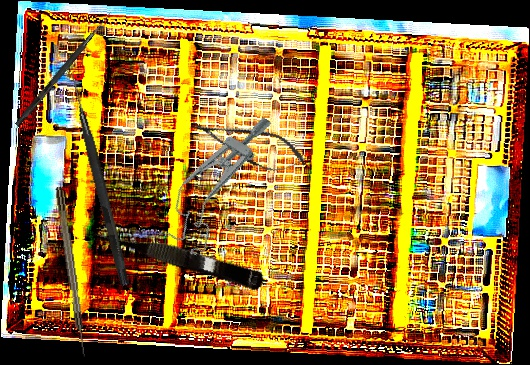Hook Surgical: (64, 71, 133, 287), (14, 8, 114, 129), (55, 186, 88, 358)
Micro Scissor: (83, 217, 268, 293), (186, 107, 311, 182)
Speculum: (154, 99, 281, 259)
